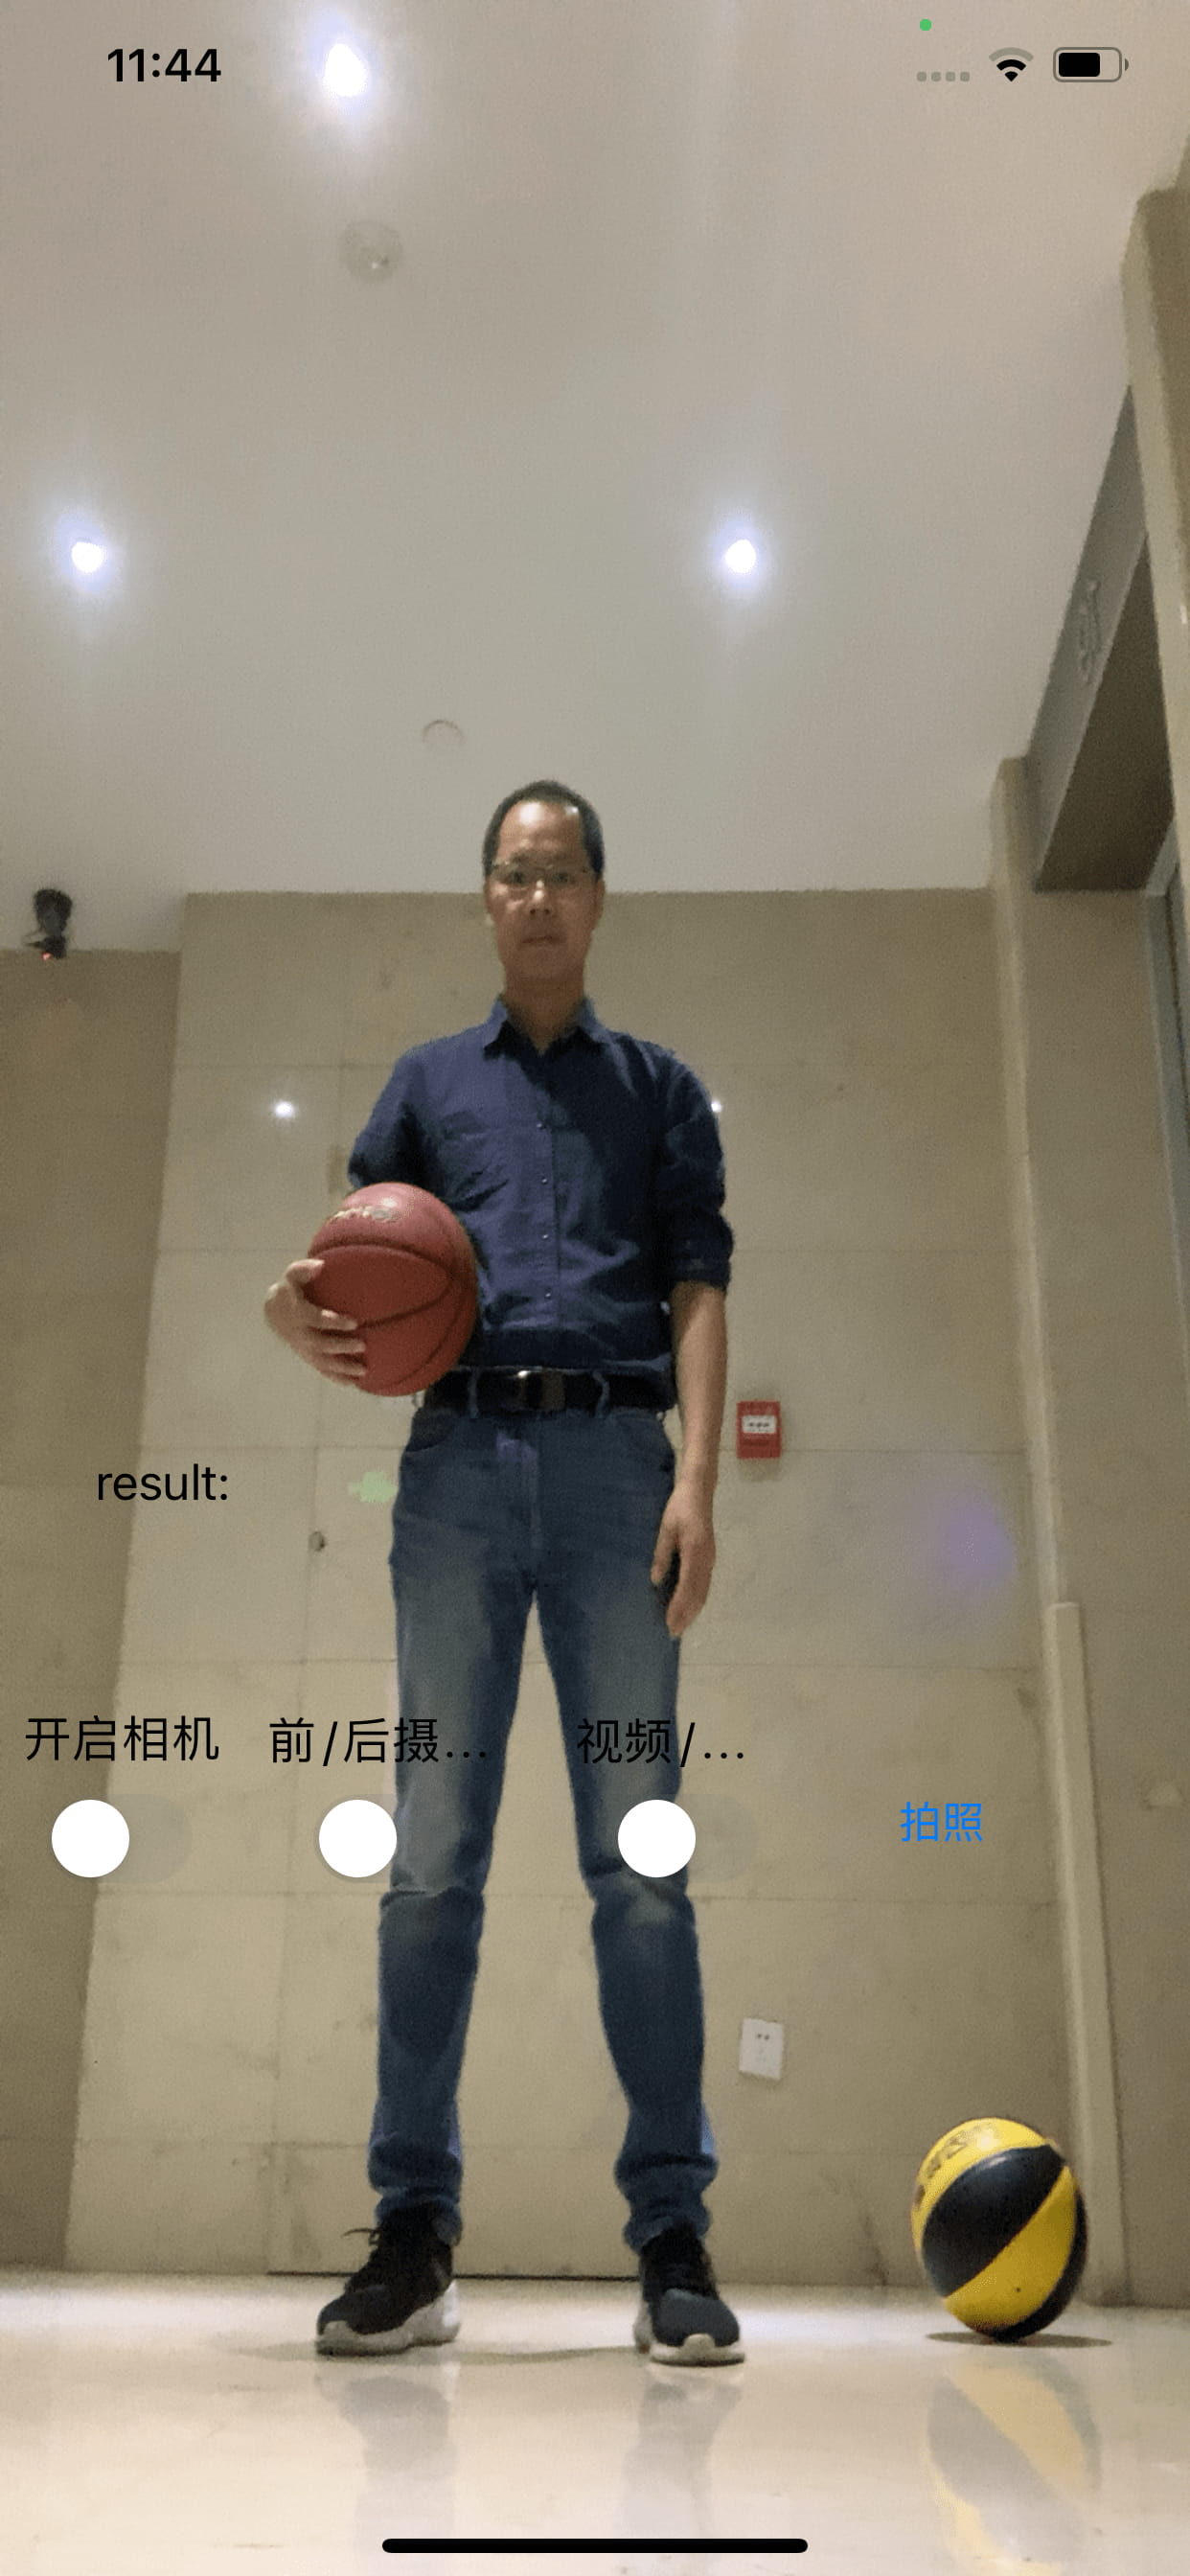ball: (904, 2118, 1088, 2333), (302, 1181, 482, 1401)
